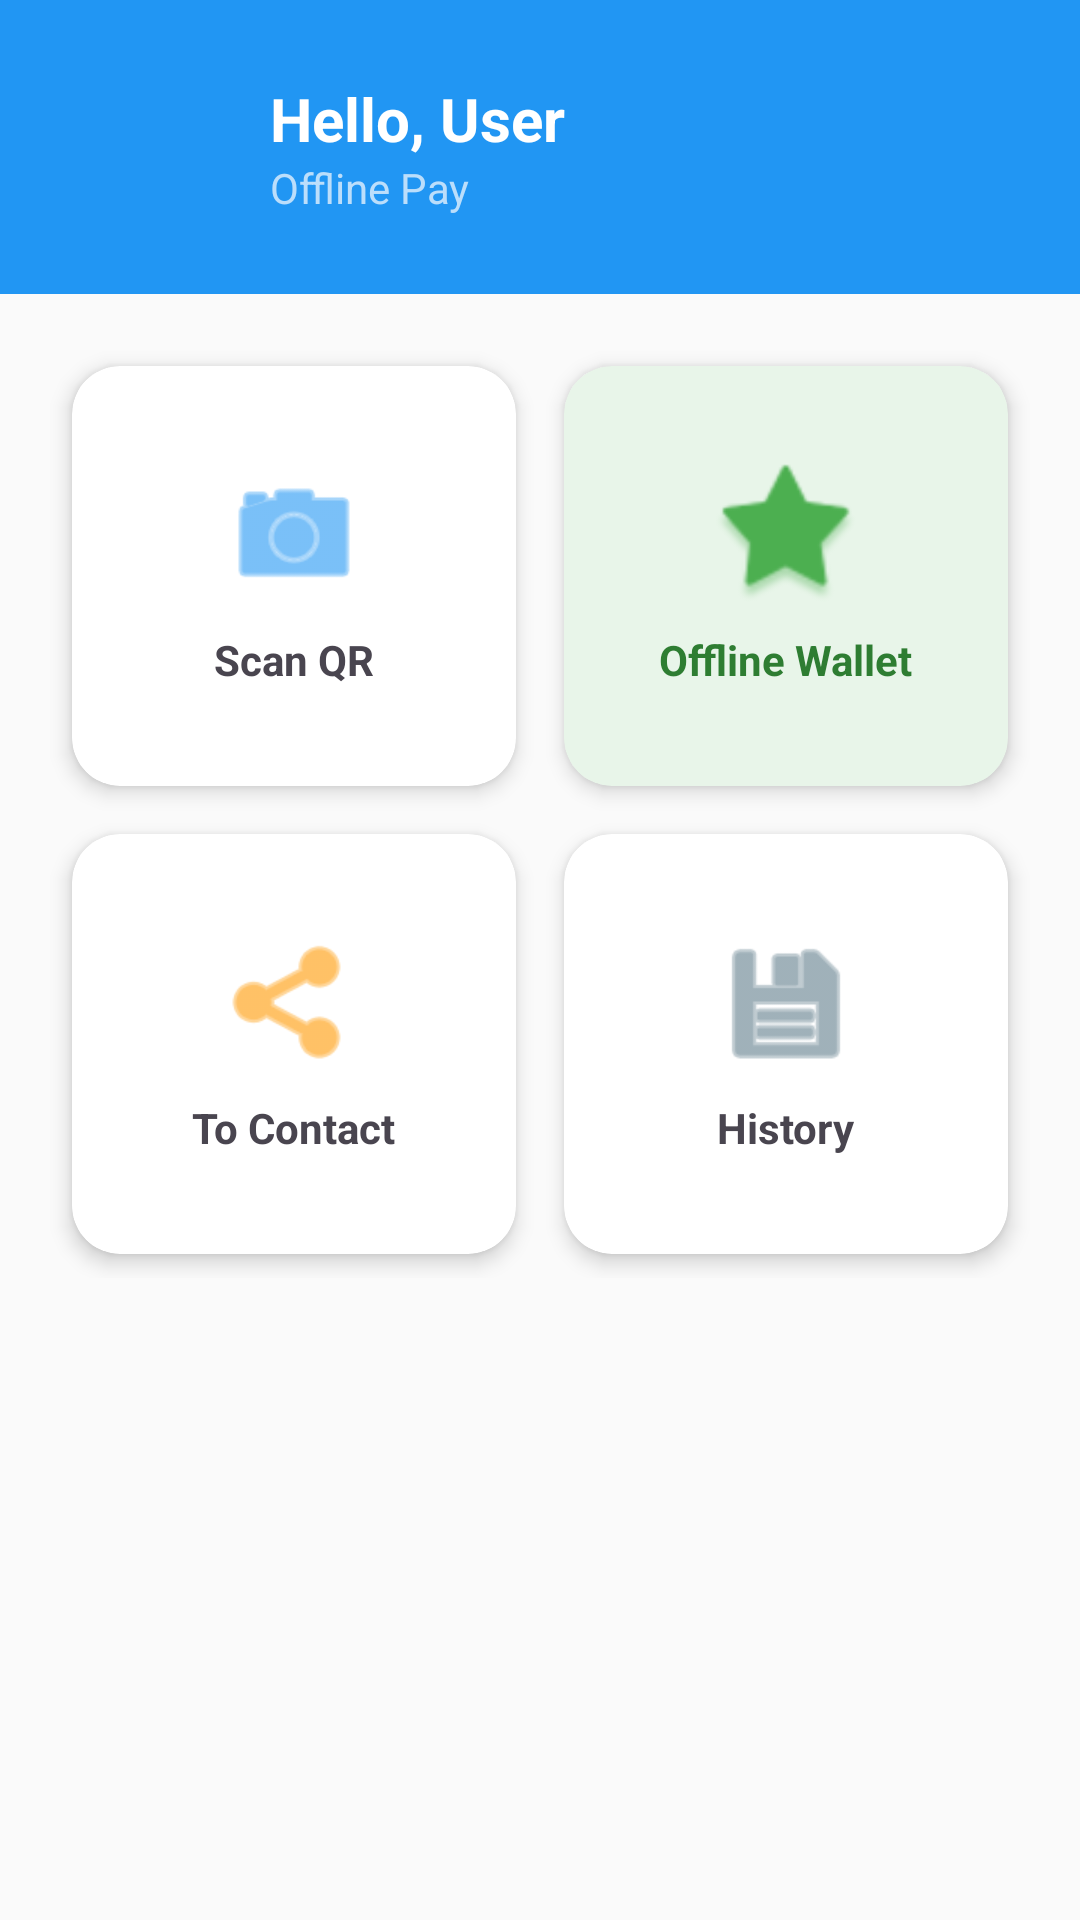

Icon click points for this 1080 × 1920 phone screenshot, format (x,y):
camera: (294,532)
save: (786,1004)
share: (286,1002)
star on: (786,529)
